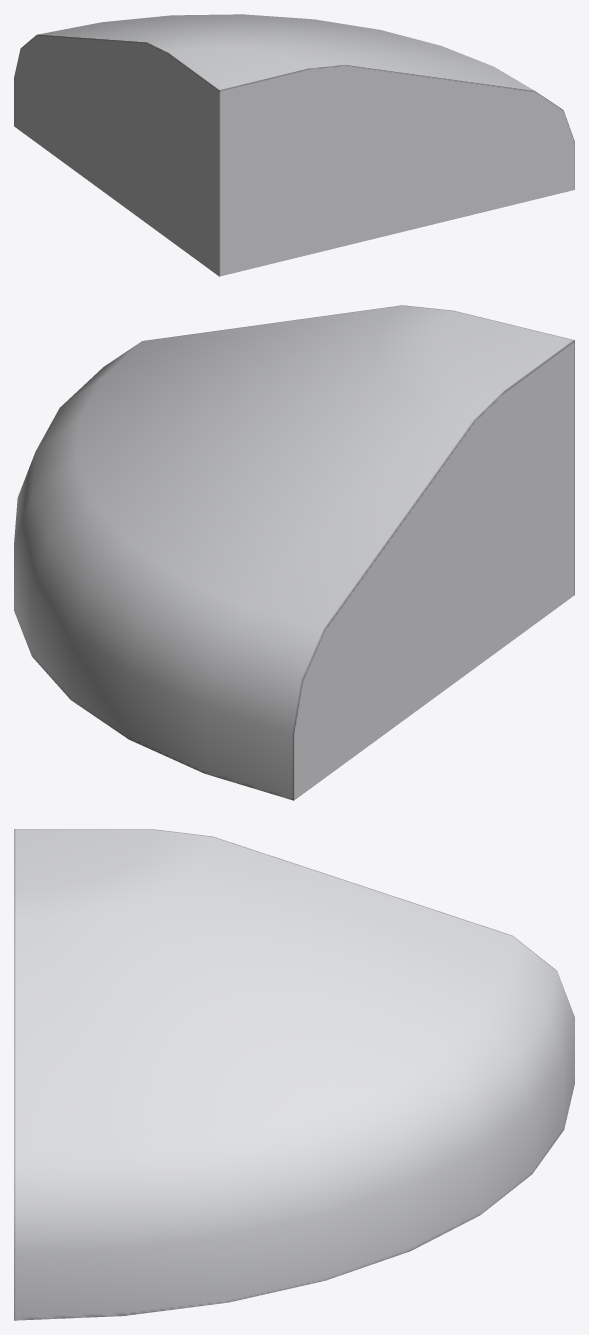
The model's file is Roof_Border_Corner_01.FBX.
3 views of the same model, one above another, from view 1: azimuth 30°, elevation 25°; view 2: azimuth 150°, elevation 25°; view 3: azimuth 270°, elevation 25° (orthographic). The views are drawn at different scales.
Parts seen in each view (by area): view 1: Roof_Border_Corner_01; view 2: Roof_Border_Corner_01; view 3: Roof_Border_Corner_01.
Part boxes in pixels (<box>): Roof_Border_Corner_01: <box>14,14,574,276</box>; Roof_Border_Corner_01: <box>14,305,574,800</box>; Roof_Border_Corner_01: <box>14,829,574,1320</box>.
Size of the model in its own units: 2 by 1 by 2.
Materials: 1 (1 with a texture image).
